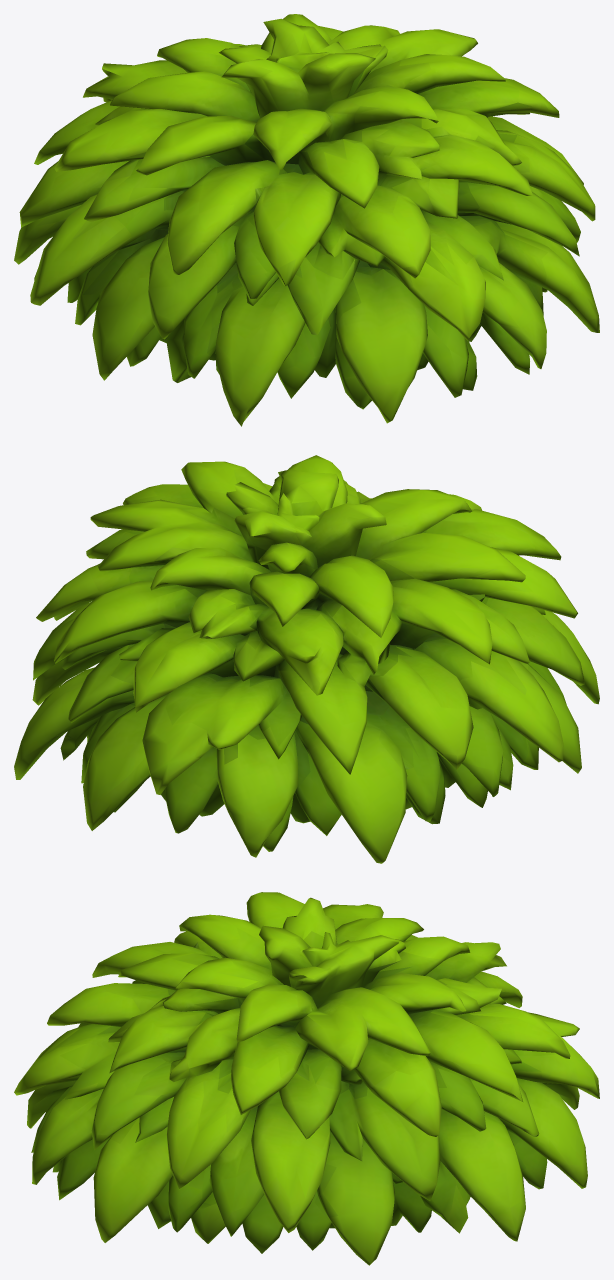
The model's file is hedge_leafy.glb.
3 renders of one model, top to bottom at view 1: azimuth 30°, elevation 25°; view 2: azimuth 150°, elevation 25°; view 3: azimuth 270°, elevation 25°, orthographic. The views are drawn at different scales.
Parts seen in each view (by area): view 1: tripo_node_52e8f565-1495-419e-a96a-af83c04e25aa; view 2: tripo_node_52e8f565-1495-419e-a96a-af83c04e25aa; view 3: tripo_node_52e8f565-1495-419e-a96a-af83c04e25aa.
Boxes of the visible parts, x1=… form: tripo_node_52e8f565-1495-419e-a96a-af83c04e25aa: x1=14, y1=14, x2=599, y2=426; tripo_node_52e8f565-1495-419e-a96a-af83c04e25aa: x1=14, y1=455, x2=599, y2=863; tripo_node_52e8f565-1495-419e-a96a-af83c04e25aa: x1=14, y1=892, x2=599, y2=1265.
Bounding box in the file's own units: 1.21 × 0.5533 × 1.25.
Materials: 1 (1 with a texture image).
